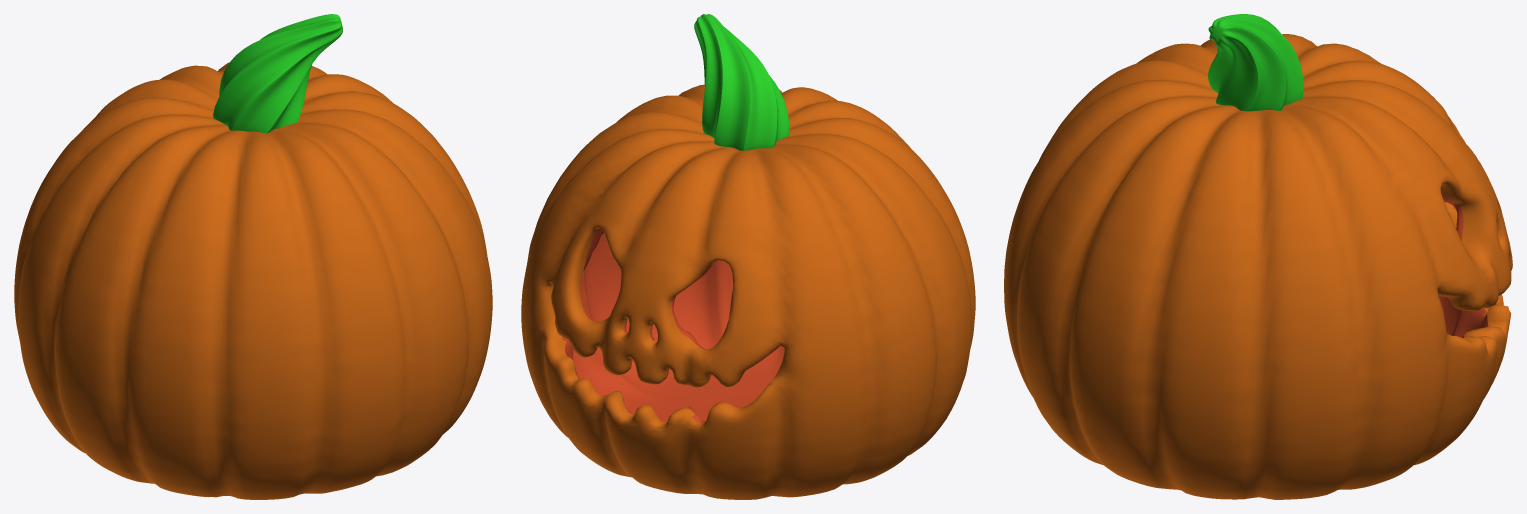
Rendered from Pumpkin.fbx.
3 renders of one model, left to right at view 1: azimuth 30°, elevation 25°; view 2: azimuth 150°, elevation 25°; view 3: azimuth 270°, elevation 25°, orthographic. The views are drawn at different scales.
Parts seen in each view (by area): view 1: Outside, Steam; view 2: Outside, Inside, Steam; view 3: Outside, Steam, Inside.
Boxes of the visible parts, x1,y1,x2,y2 form: Outside: (14,62,492,499); Steam: (213,14,342,133); Outside: (521,84,975,499); Inside: (562,228,784,423); Steam: (694,14,789,150); Outside: (1004,34,1512,499); Steam: (1208,14,1303,111); Inside: (1439,187,1488,338).
Bounding box in the file's own units: 207 × 200 × 208.
